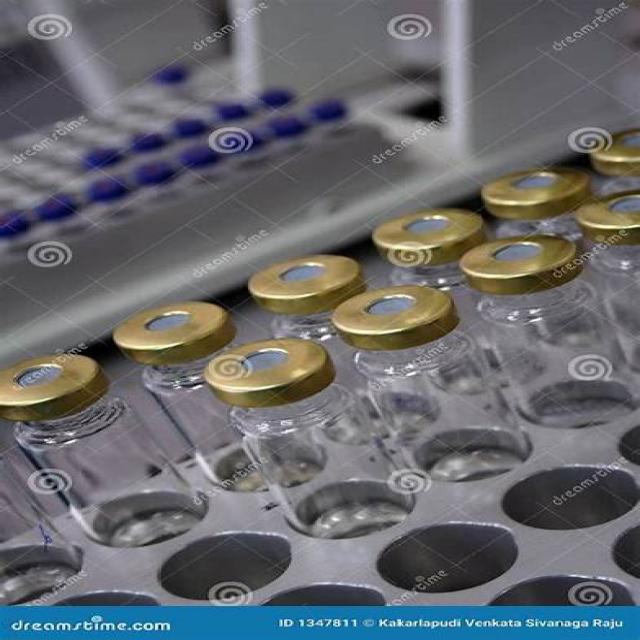vial: (463, 173, 609, 210), (444, 245, 596, 280), (330, 295, 455, 332), (0, 355, 75, 415), (369, 212, 485, 246), (120, 313, 236, 345), (253, 266, 370, 297), (207, 348, 330, 377), (577, 135, 640, 177), (590, 195, 640, 227)
